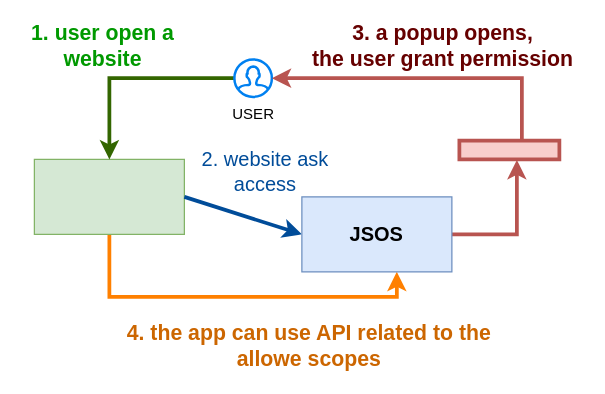
Some shapes in this 605 by 394 pixel diagram are drawn without their labels. The shapes that lost their labels are listed below. From the top down, each one's centre as x and y in pixels, then its label:
At point (509, 149): "POPUP".
At point (108, 196): "WEB APP".
